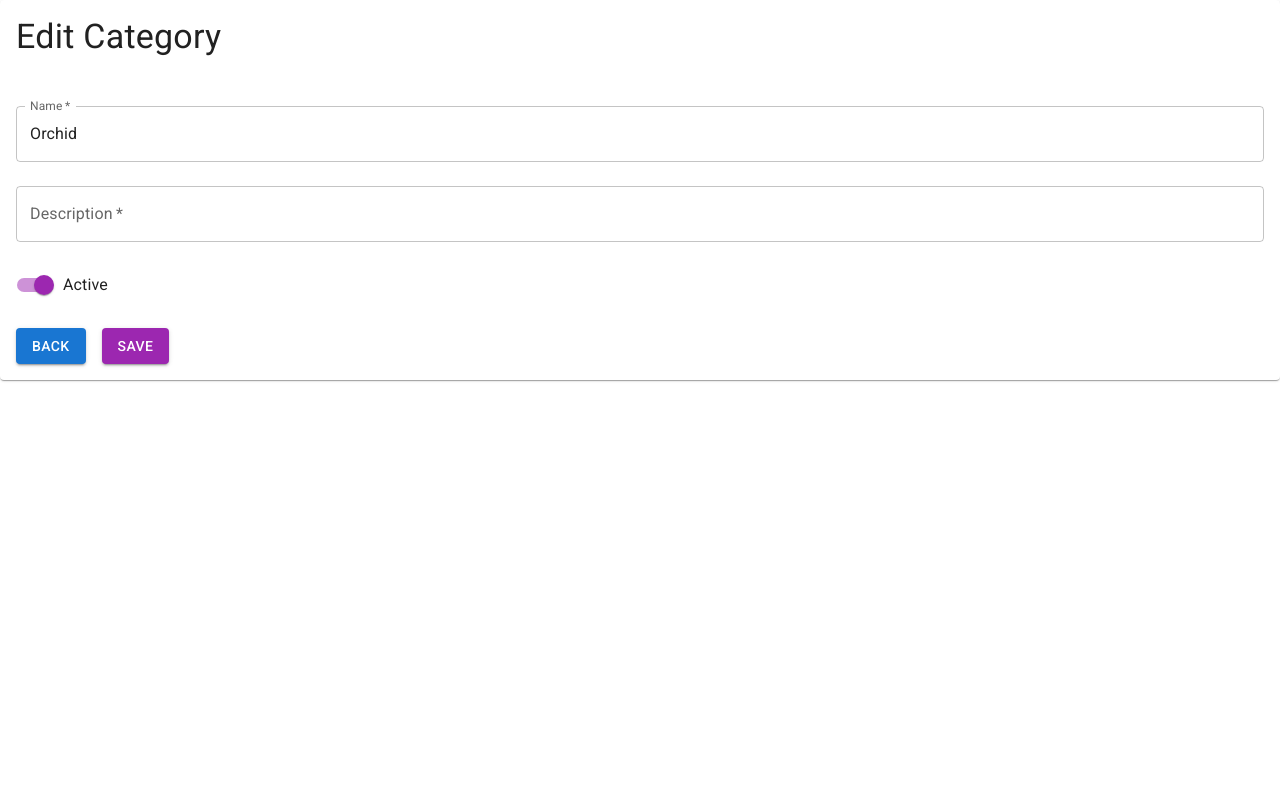
Scenario: EditCategory › should handle submit error
The image size is (1280, 800).
Replace the text in the field with test id "name" with "Orchid edited": x=640, y=134 [16,106,1264,162]
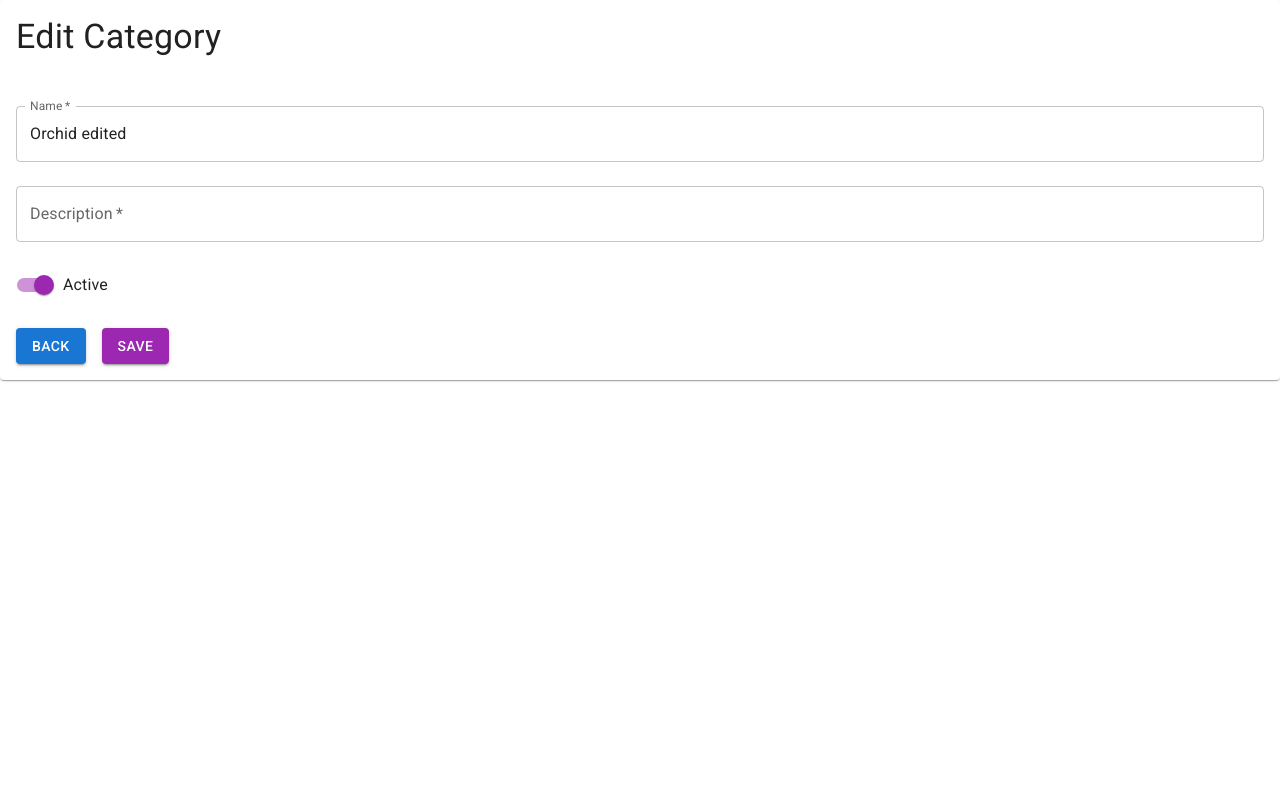
In the field with test id "description": x=640, y=214 [16,186,1264,242], type "Description edited"
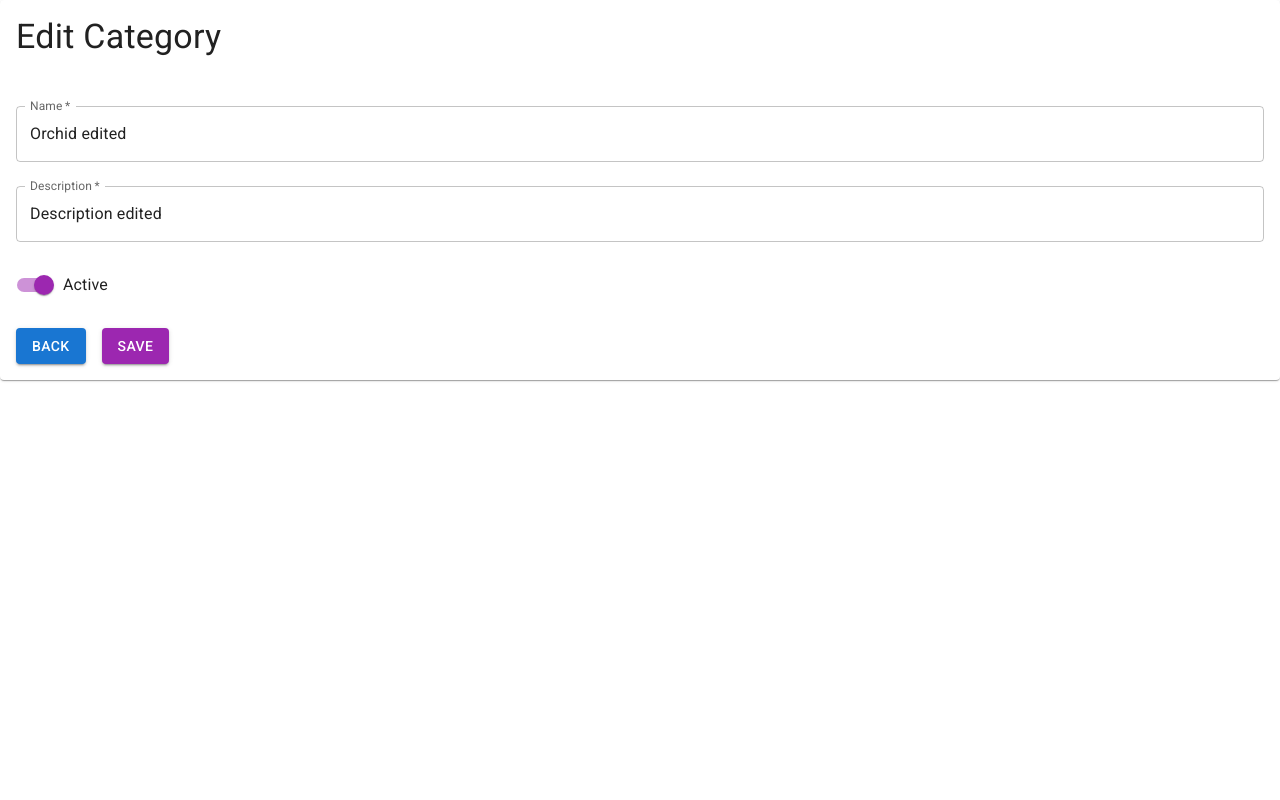
Click the element with test id "is_active": x=44, y=285 [34,275,54,295]
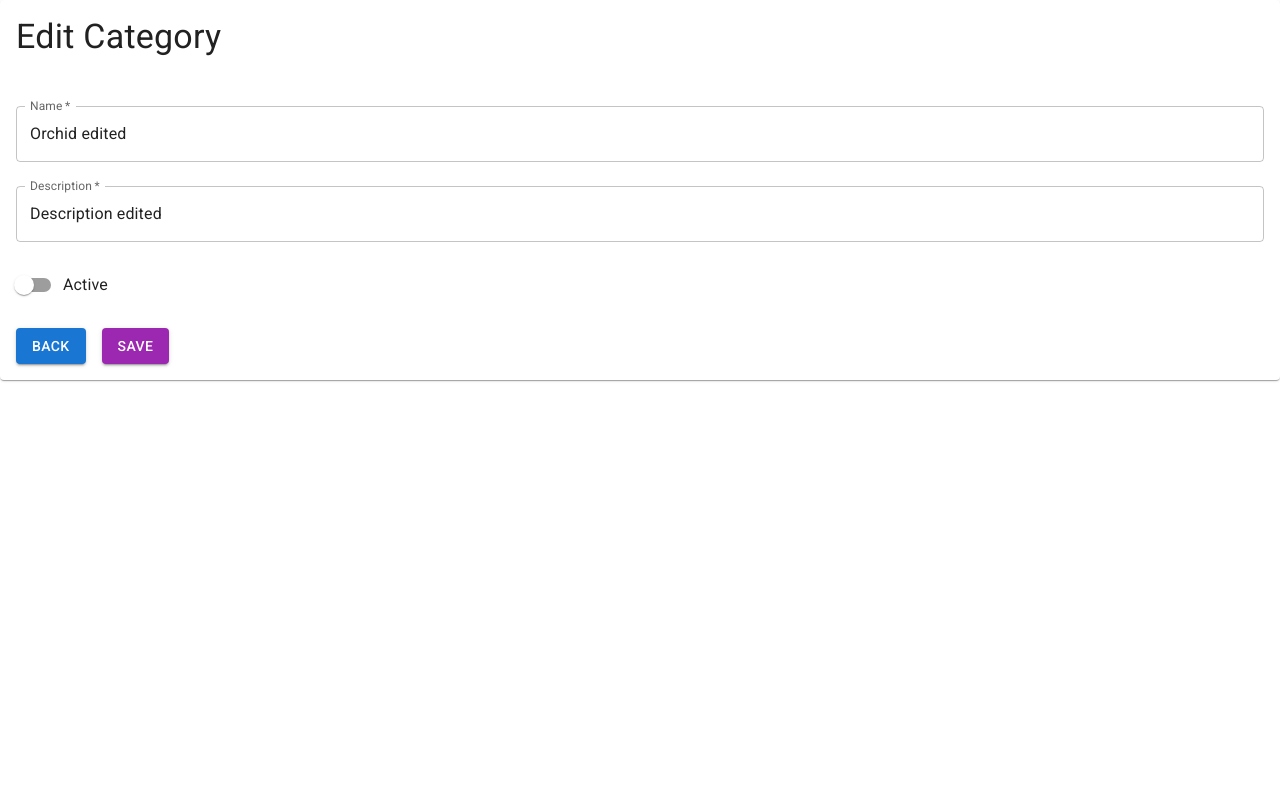
Click the button "Save": x=136, y=346 [102,328,169,364]
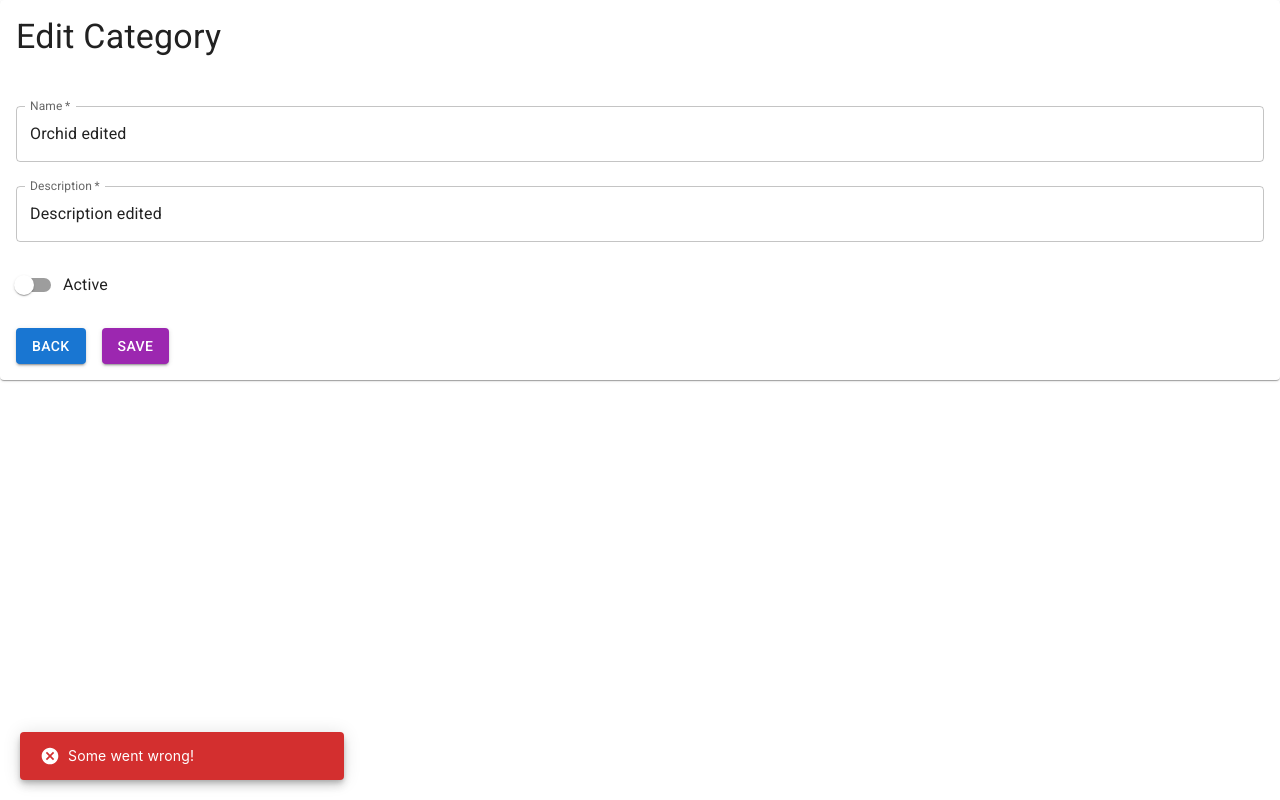
Expected: the text "Some went wrong!" is shown, [40,746,194,766]
